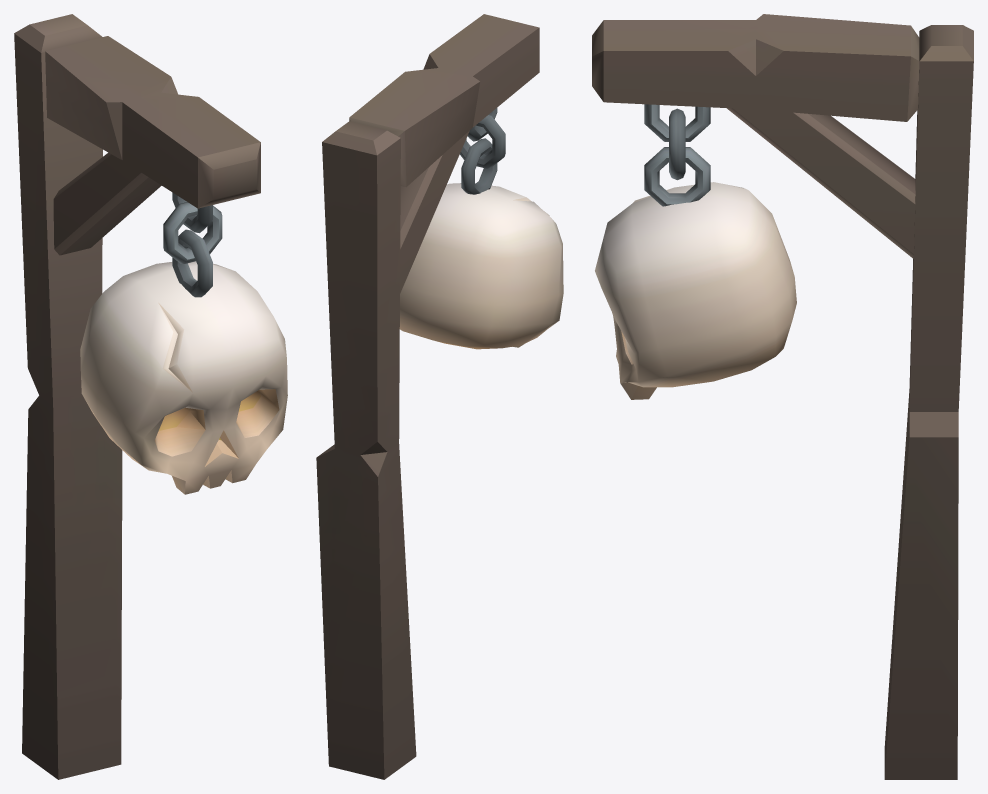
The model's file is post-skull.glb.
The picture shows the model from 3 angles, left to right: view 1: azimuth 30°, elevation 25°; view 2: azimuth 150°, elevation 25°; view 3: azimuth 270°, elevation 25°; orthographic projection. The views are drawn at different scales.
Visible parts, largest first — view 1: post_skull; view 2: post_skull; view 3: post_skull.
Boxes of the visible parts, box(x1,y1,x2,y2) form: post_skull: box(14, 14, 287, 779); post_skull: box(316, 14, 563, 779); post_skull: box(592, 14, 973, 779).
Bounding box in the file's own units: 0.8091 × 3.3 × 1.57.
1 material, 1 textured.
